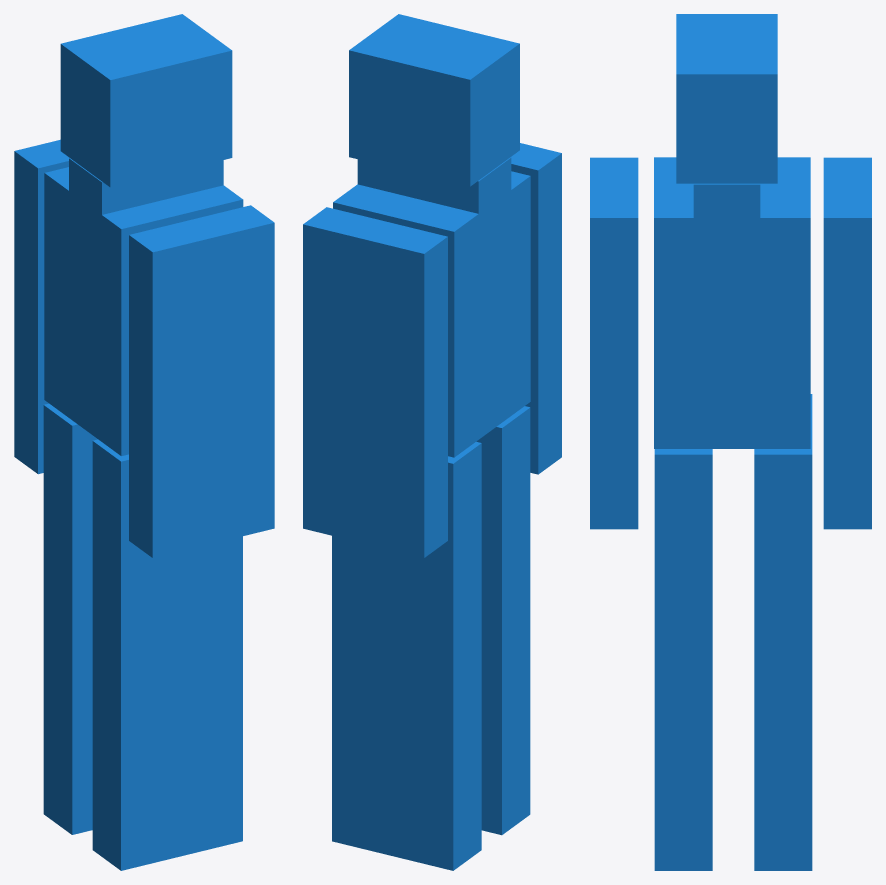
File: anitahumanblue.glb
3 views of the same model, side by side, from view 1: azimuth 30°, elevation 25°; view 2: azimuth 150°, elevation 25°; view 3: azimuth 270°, elevation 25° (orthographic). The views are drawn at different scales.
Visible parts, largest first — view 1: LLeg, LArm, Head, Torso, RLeg, RArm, Neck; view 2: RLeg, RArm, Head, Torso, LLeg, LArm, Neck; view 3: Torso, RLeg, LLeg, LArm, RArm, Head, Neck.
Part boxes in pixels (x1,y1,x2,y2): LLeg: [92, 439, 242, 870]; LArm: [129, 205, 274, 557]; Head: [60, 14, 232, 187]; Torso: [44, 167, 243, 456]; RLeg: [43, 403, 97, 834]; RArm: [14, 139, 69, 474]; Neck: [69, 158, 223, 214]; RLeg: [332, 441, 481, 870]; RArm: [303, 207, 447, 557]; Head: [349, 14, 519, 186]; Torso: [333, 171, 530, 457]; LLeg: [476, 406, 530, 835]; LArm: [511, 143, 561, 474]; Neck: [357, 157, 511, 213]; Torso: [654, 157, 810, 448]; RLeg: [754, 394, 812, 870]; LLeg: [654, 449, 712, 870]; LArm: [590, 157, 638, 529]; RArm: [823, 157, 871, 529]; Head: [676, 14, 777, 183]; Neck: [693, 183, 760, 218].
Bounding box in the file's own units: 0.3545 × 2.18 × 0.6979.
